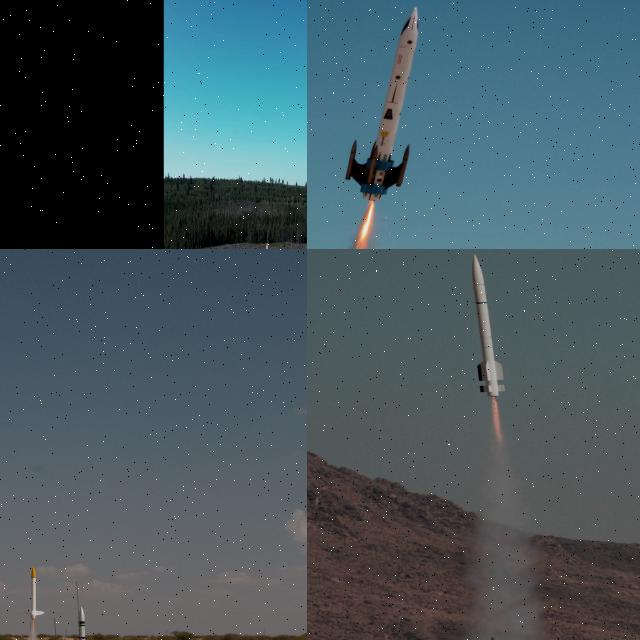Rocket: (344, 5, 419, 201), (471, 253, 507, 400), (23, 567, 45, 620), (73, 606, 90, 640), (267, 234, 268, 244)
